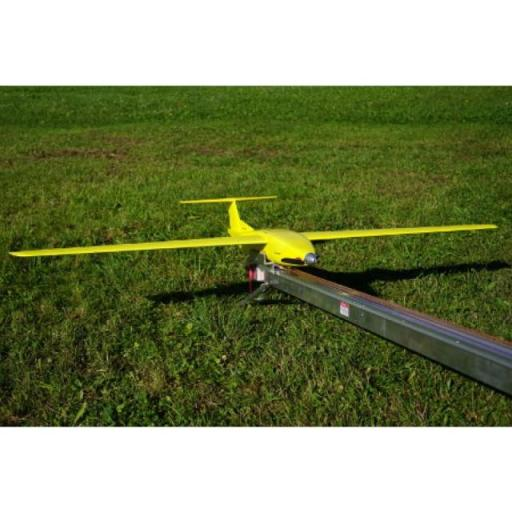uav: (6, 188, 498, 272)
